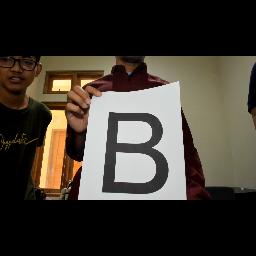b: (100, 106, 172, 200)
